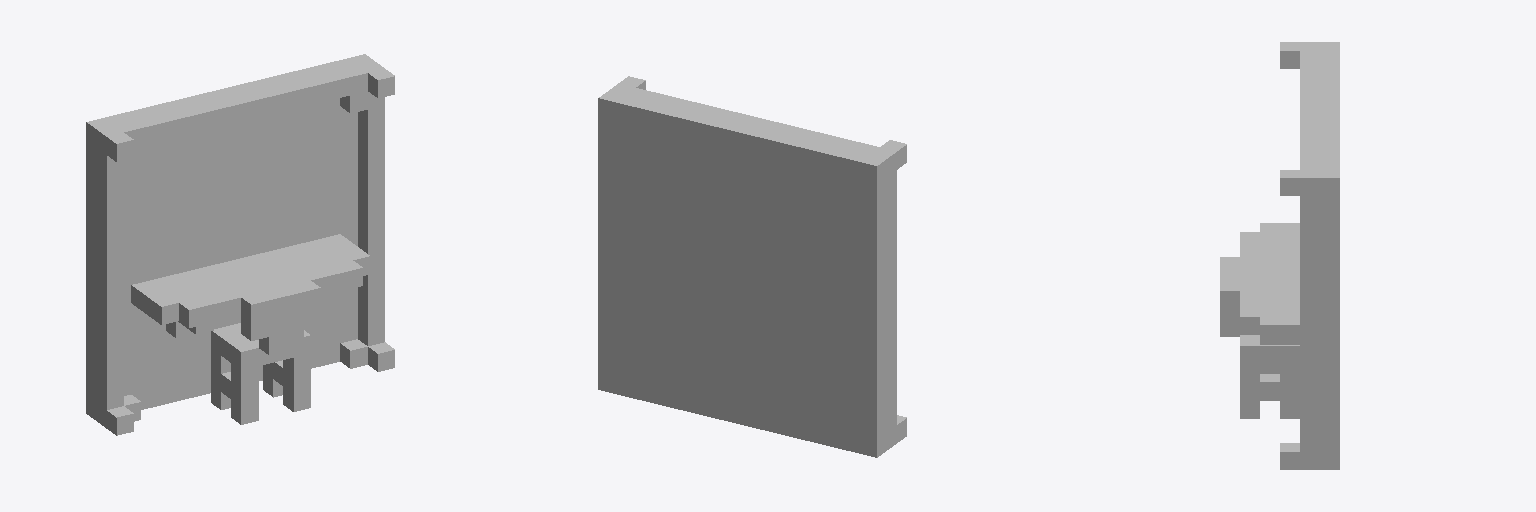
File: wallDesk.obj
3 views of the same model, side by side, from view 1: azimuth 30°, elevation 25°; view 2: azimuth 150°, elevation 25°; view 3: azimuth 270°, elevation 25° (orthographic).
Visible parts, largest first — view 1: object 1; view 2: object 1; view 3: object 1.
Boxes of the visible parts, box(x1,y1,x2,y2) form: object 1: box(86, 54, 394, 435); object 1: box(598, 76, 906, 457); object 1: box(1220, 42, 1339, 469).
Bounding box in the file's own units: 1.6 × 1.6 × 0.6.